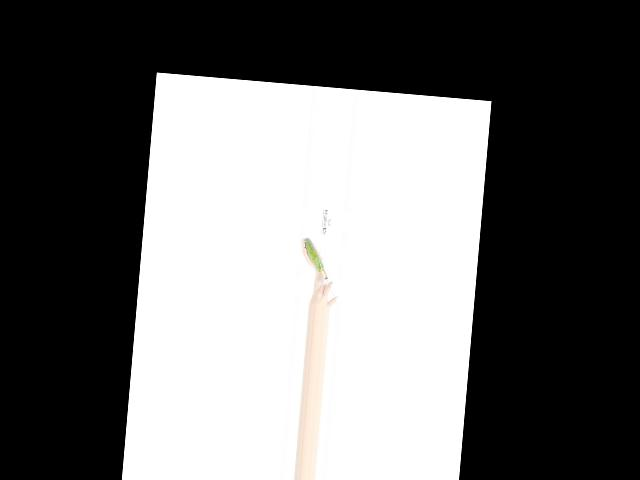cucumber: (301, 238, 326, 272)
